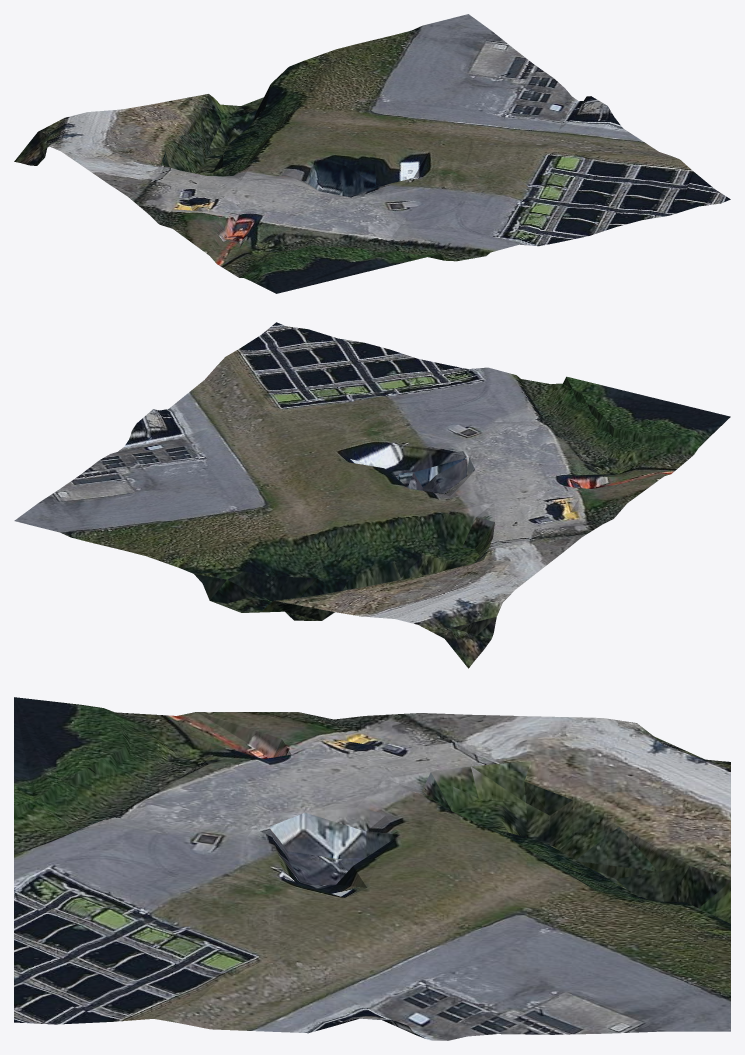
File: map_15_8178_13777.dae
3 renders of one model, top to bottom at view 1: azimuth 30°, elevation 25°; view 2: azimuth 150°, elevation 25°; view 3: azimuth 270°, elevation 25°, orthographic. The views are drawn at different scales.
Visible parts, largest first — view 1: Ter0; view 2: Ter0; view 3: Ter0.
Boxes of the visible parts, <box> form: Ter0: <box>14,14,730,293</box>; Ter0: <box>14,322,730,668</box>; Ter0: <box>14,697,730,1040</box>.
Bounding box in the file's own units: 63.88 × 63.88 × 10.11.
3 materials, 3 textured.
